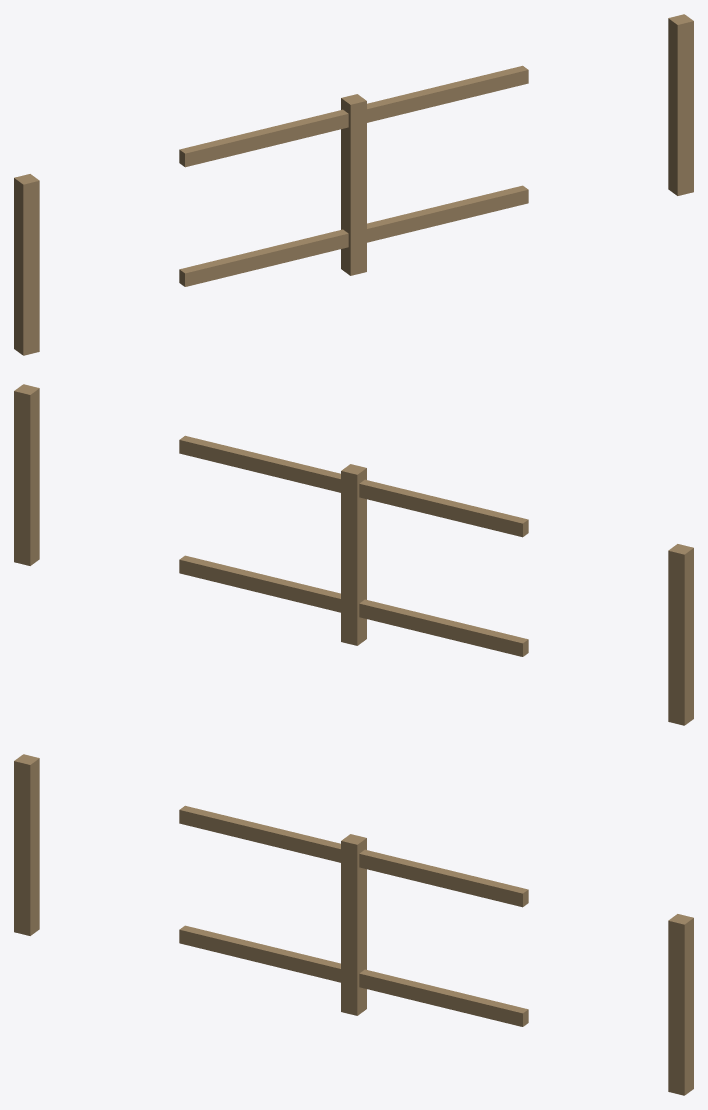
File: fence_section_1.glb
3 views of the same model, one above another, from view 1: azimuth 30°, elevation 25°; view 2: azimuth 150°, elevation 25°; view 3: azimuth 330°, elevation 25° (orthographic).
Visible parts, largest first — view 1: fence_section_1_rail, fence_section_1_rail.001, fence_section_1_post, fence_section_1_post.002, fence_section_1_post.001; view 2: fence_section_1_rail, fence_section_1_rail.001, fence_section_1_post, fence_section_1_post.002, fence_section_1_post.001; view 3: fence_section_1_rail, fence_section_1_rail.001, fence_section_1_post, fence_section_1_post.002, fence_section_1_post.001.
Part boxes in pixels (left/top/right/bottom): fence_section_1_rail: left=179, top=185, right=528, bottom=286; fence_section_1_rail.001: left=179, top=65, right=528, bottom=167; fence_section_1_post: left=14, top=174, right=39, bottom=355; fence_section_1_post.002: left=668, top=14, right=693, bottom=195; fence_section_1_post.001: left=341, top=94, right=366, bottom=275; fence_section_1_rail: left=179, top=555, right=528, bottom=656; fence_section_1_rail.001: left=179, top=435, right=528, bottom=537; fence_section_1_post: left=668, top=544, right=693, bottom=725; fence_section_1_post.002: left=14, top=384, right=39, bottom=565; fence_section_1_post.001: left=341, top=464, right=366, bottom=645; fence_section_1_rail: left=179, top=925, right=528, bottom=1026; fence_section_1_rail.001: left=179, top=805, right=528, bottom=907; fence_section_1_post: left=14, top=754, right=39, bottom=935; fence_section_1_post.002: left=668, top=914, right=693, bottom=1095; fence_section_1_post.001: left=341, top=834, right=366, bottom=1015.
Size of the model in its own units: 2.05 by 0.5 by 0.05.
